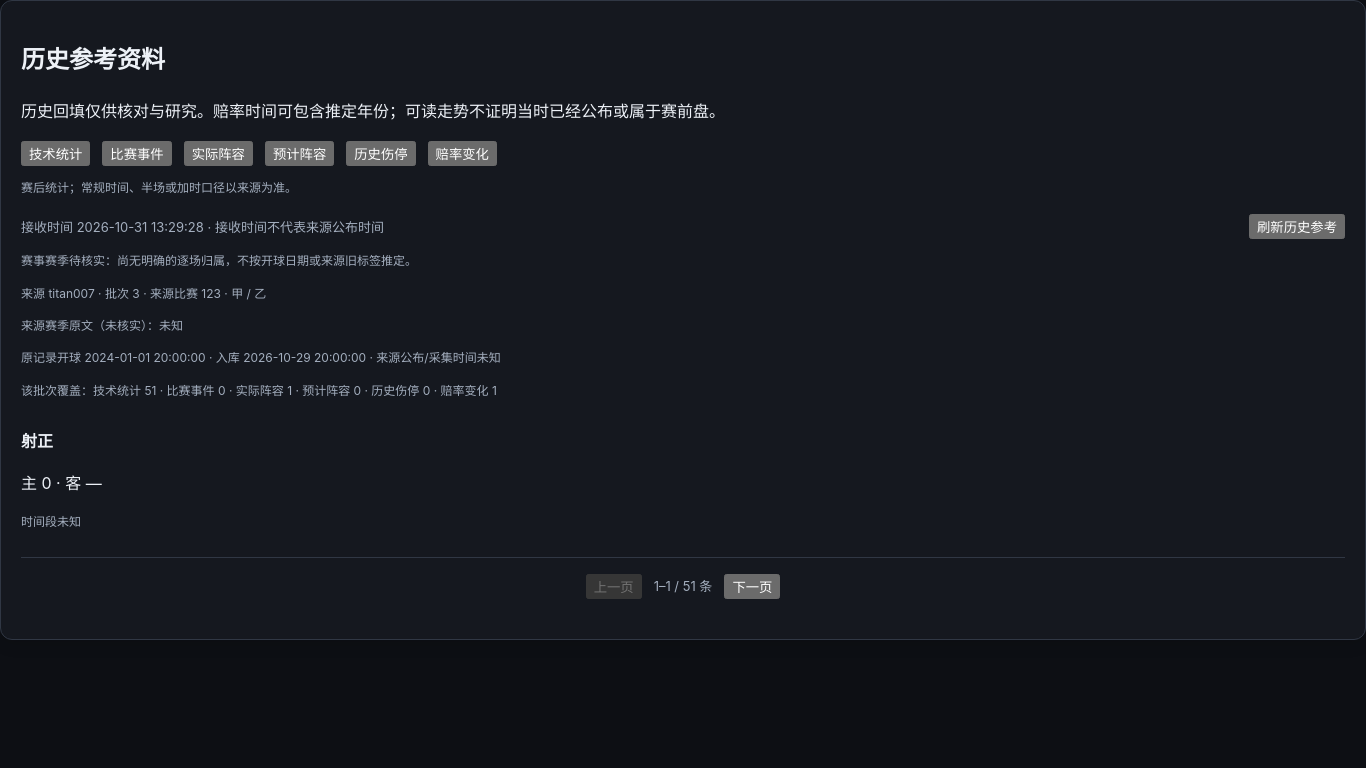
Scenario: pins the successful batch across pages and data domains
Check: the text "射正" is shown, box [21,431,53,451]
Click the button "下一页": (752, 586) [724,574,780,599]
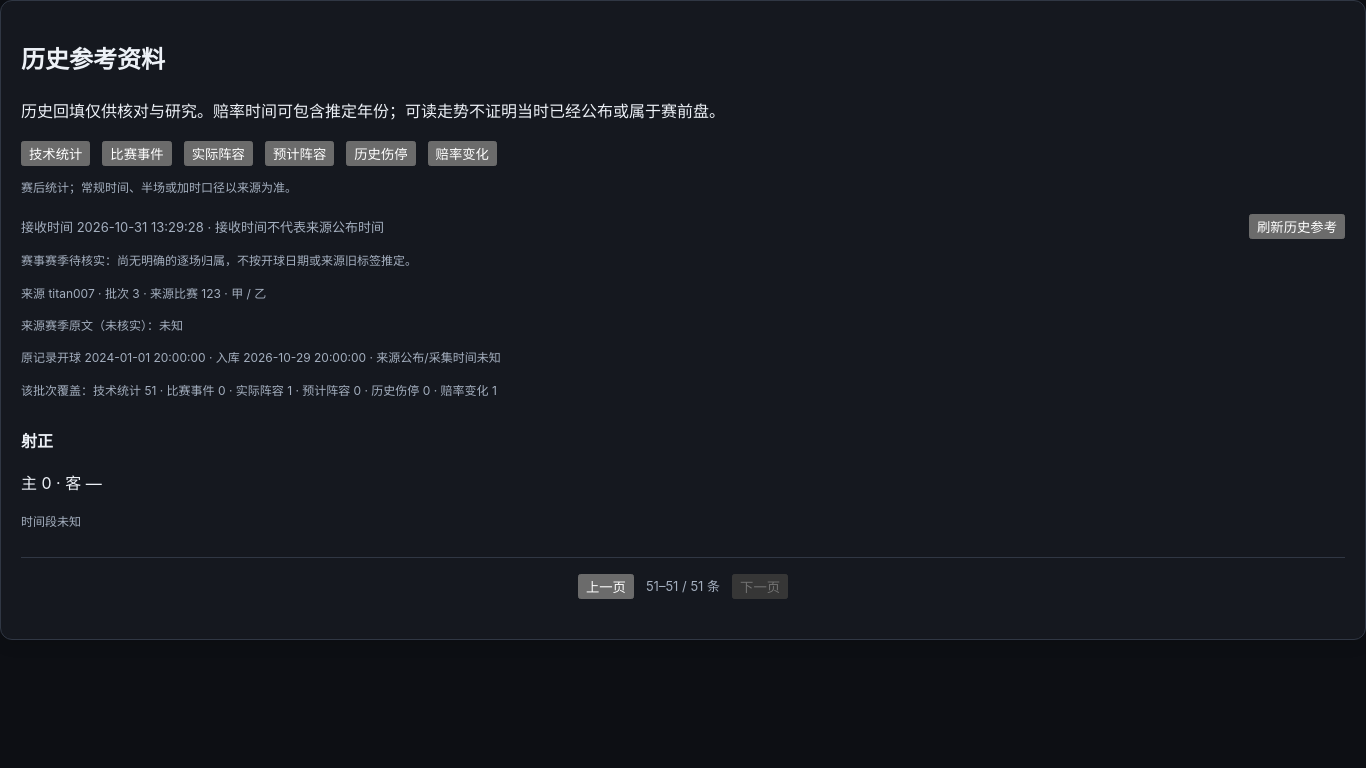
Check: the text "51–51 / 51 条" is shown, box [646,576,720,597]
Click the button "实际阵容": (218, 153) [184,141,253,166]
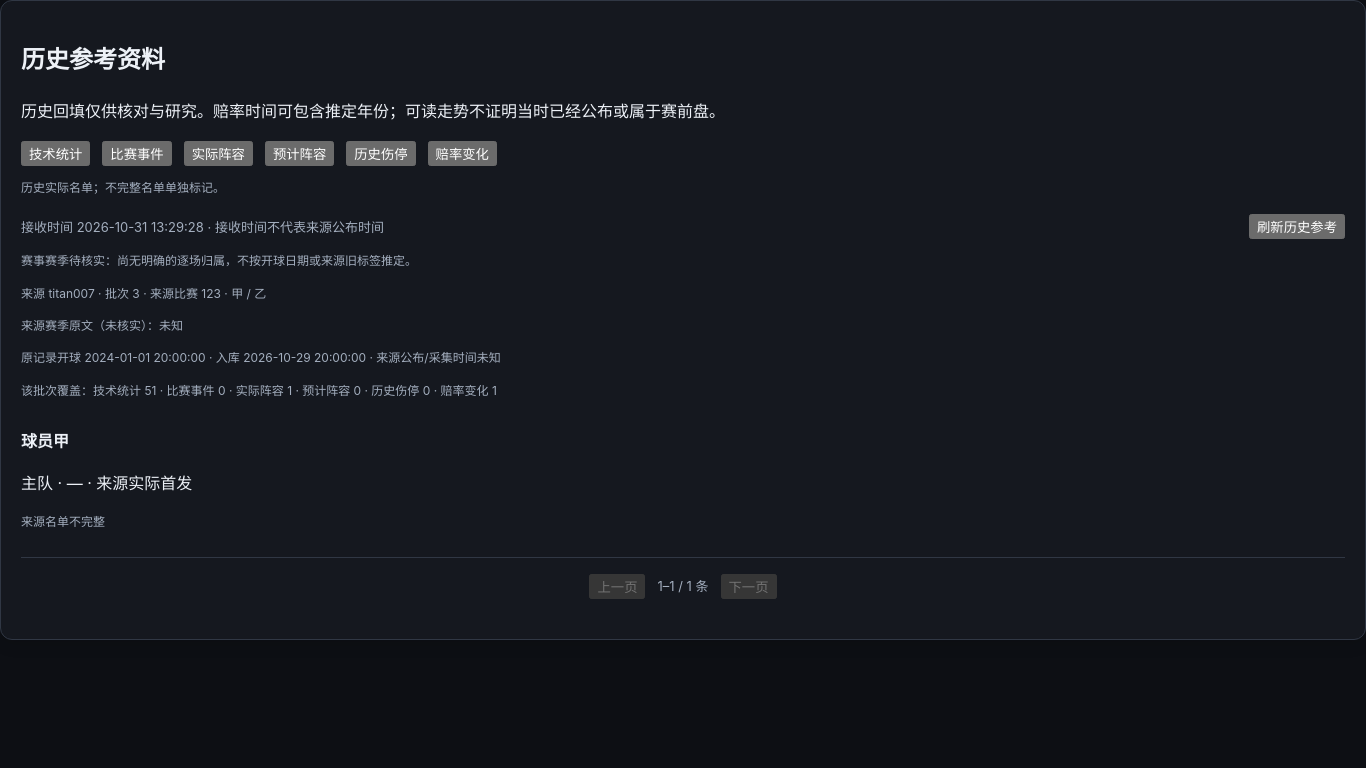
Check: the text "球员甲" is shown, box [21,431,69,451]
Check: the text "来源名单不完整" is shown, box [21,514,105,529]
